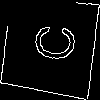C: (24, 21, 77, 63)
